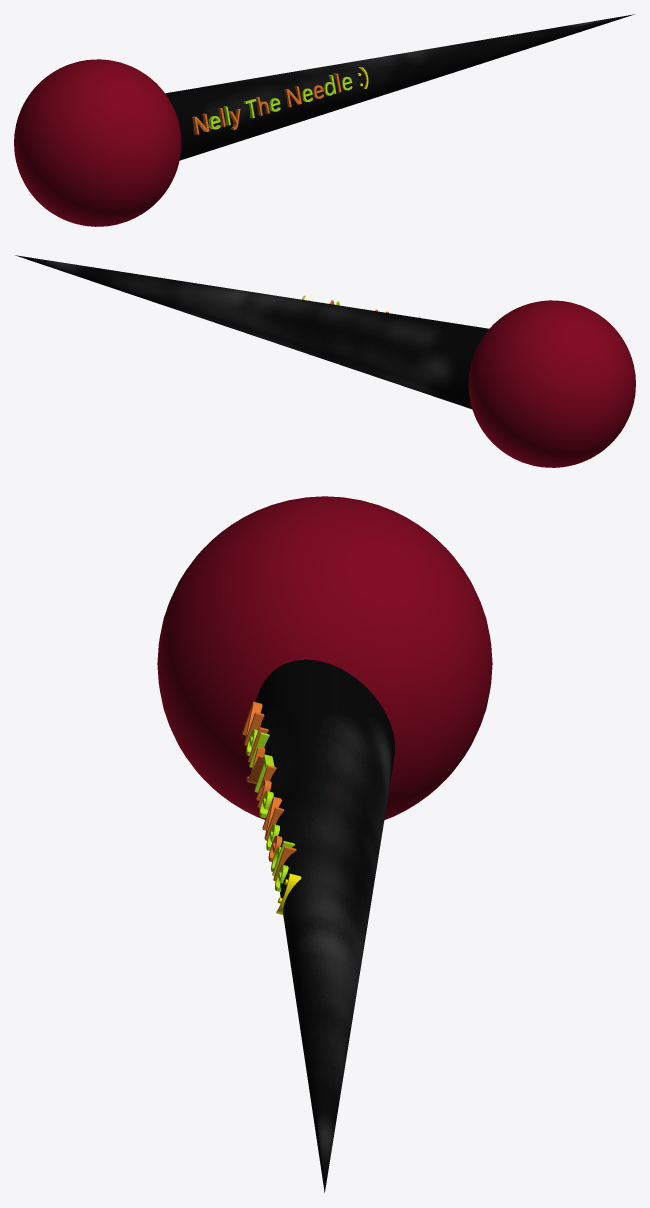
Rendered from Nelly Model.fbx.
The picture shows the model from 3 angles, top to bottom: view 1: azimuth 30°, elevation 25°; view 2: azimuth 150°, elevation 25°; view 3: azimuth 270°, elevation 25°; orthographic projection. The views are drawn at different scales.
Parts seen in each view (by area): view 1: root (×2), node_id46; view 2: root (×2); view 3: root (×2), node_id46.
Part boxes in pixels (box(x1,y1,x2,y2)): root (×2): box(14, 14, 634, 226); node_id46: box(192, 67, 368, 134); root (×2): box(15, 255, 635, 467); root (×2): box(157, 496, 492, 1192); node_id46: box(242, 701, 301, 914).
Bounding box in the file's own units: 1.16 × 0.275 × 0.275.
3 materials, 3 textured.
